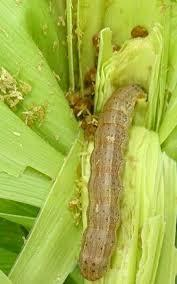fallarmy_worm: (76, 80, 151, 281)
